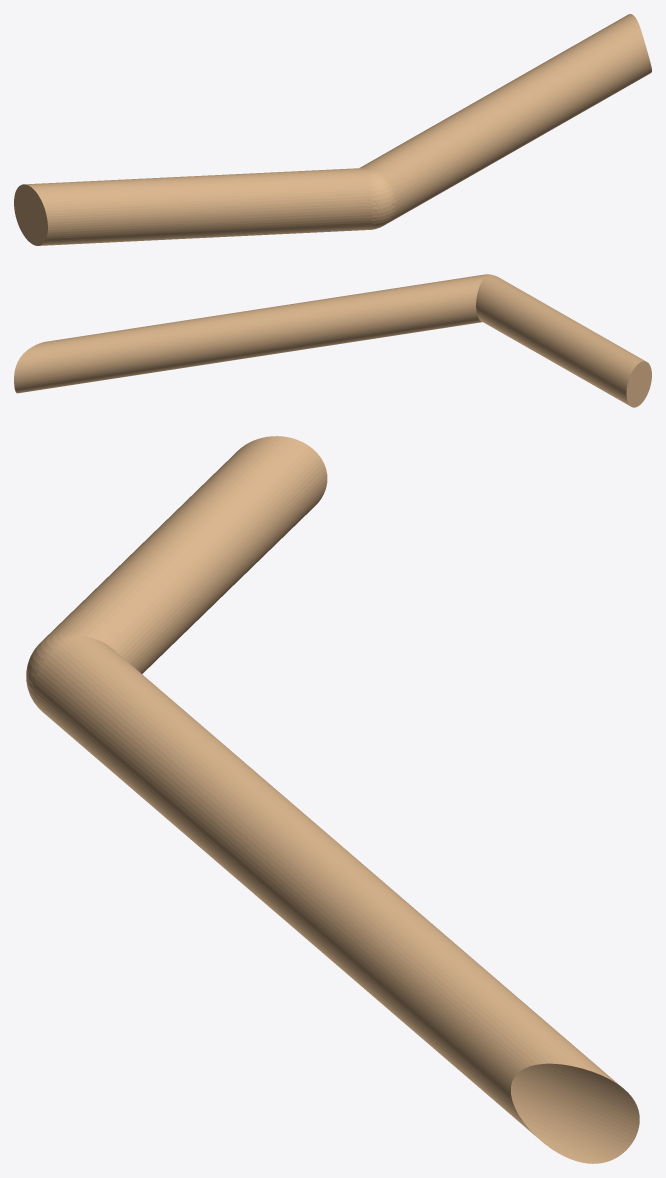
The model's file is starter-brush-pigtail-positive-4.glb.
The picture shows the model from 3 angles, top to bottom: view 1: azimuth 30°, elevation 25°; view 2: azimuth 150°, elevation 25°; view 3: azimuth 270°, elevation 25°; orthographic projection. The views are drawn at different scales.
Parts seen in each view (by area): view 1: world; view 2: world; view 3: world.
Part boxes in pixels (bbox=[...]): world: bbox=[14, 14, 651, 245]; world: bbox=[14, 274, 651, 407]; world: bbox=[26, 436, 639, 1163].
Bounding box in the file's own units: 0.0173 × 0.0031 × 0.00852.
